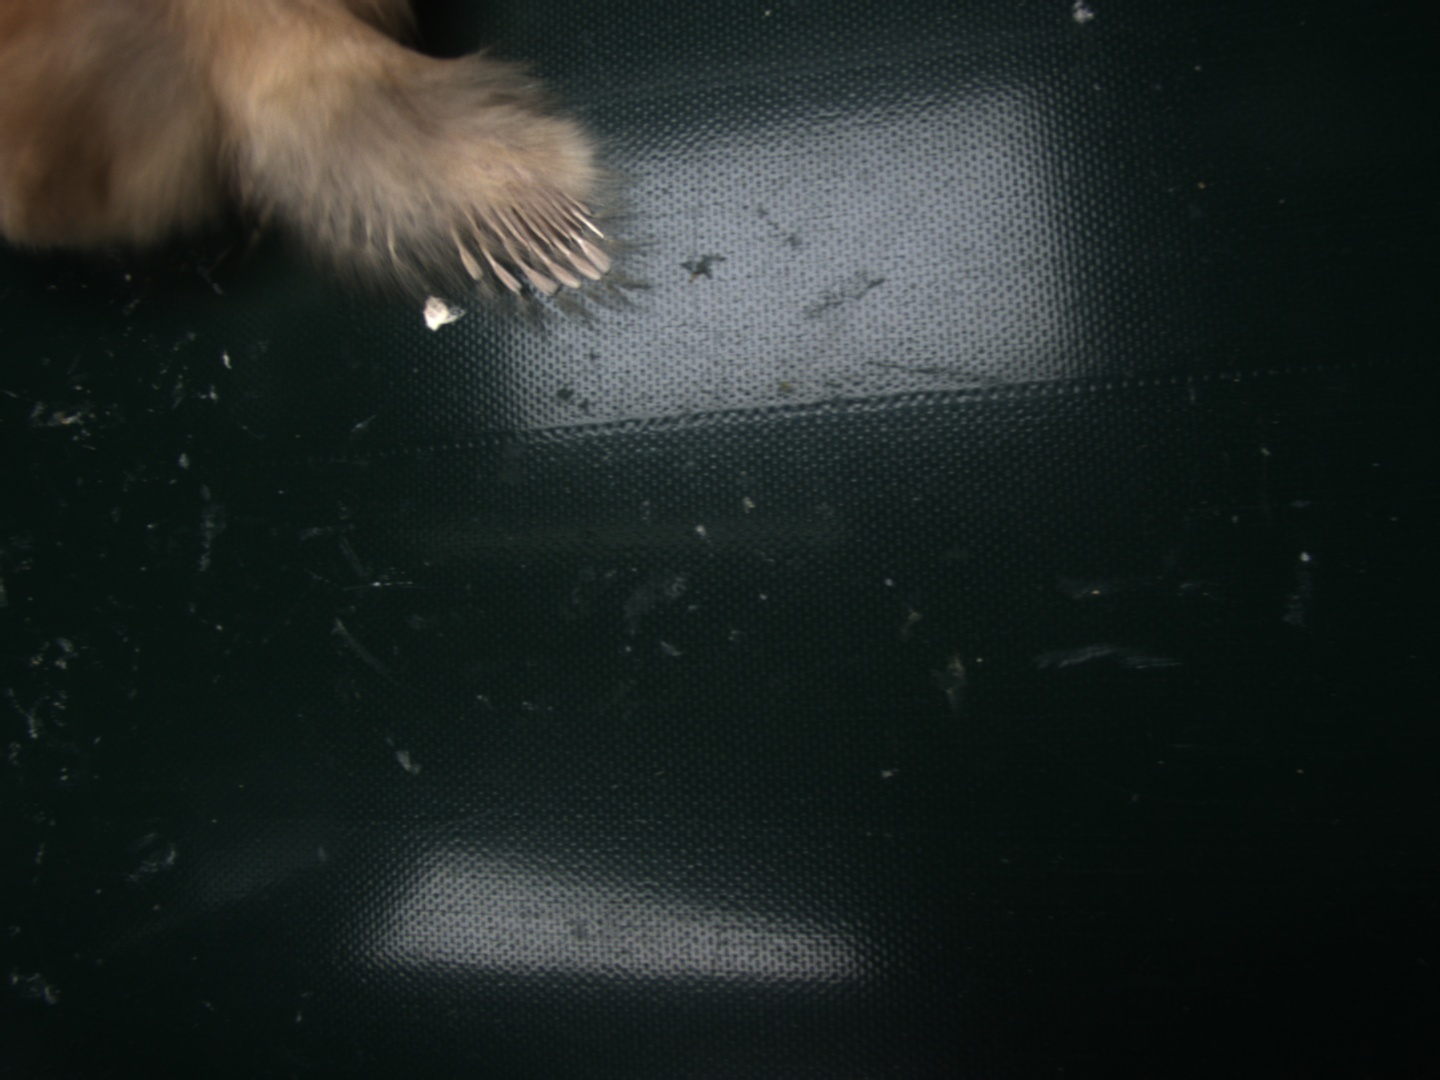female: (444, 184, 612, 296)
